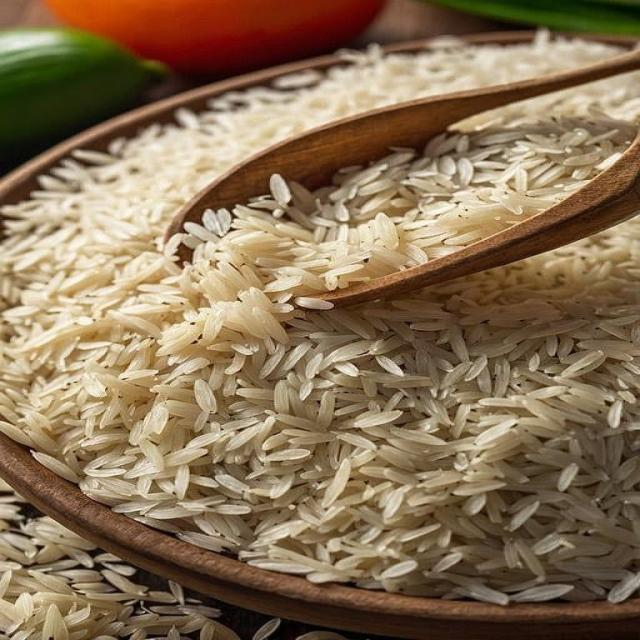rice: (0, 35, 639, 604), (0, 481, 239, 639)
